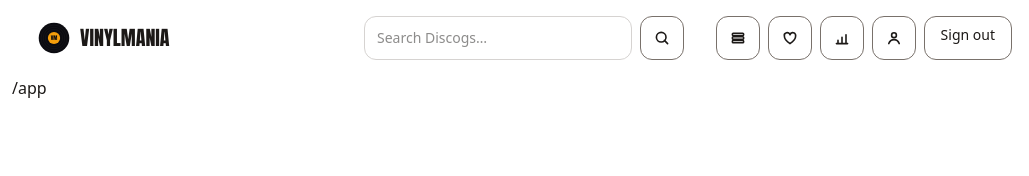
Scenario: Header search — suggestions (069 US2) › opens the master detail and collapses the search when a master suggestion is chosen (FR-012, SC-002)
Click the button named "search" at (662, 38), box [640, 16, 684, 60]
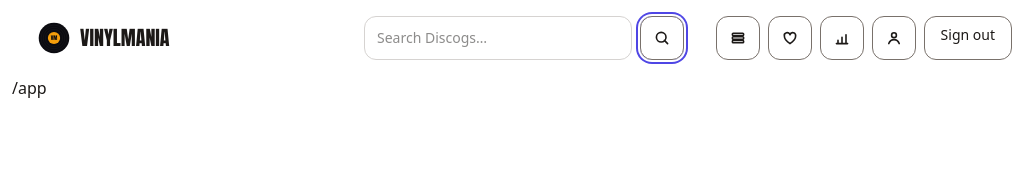
Type "miles" into the dropdown labelled "Search Discogs…" at (498, 38), box [364, 16, 632, 60]
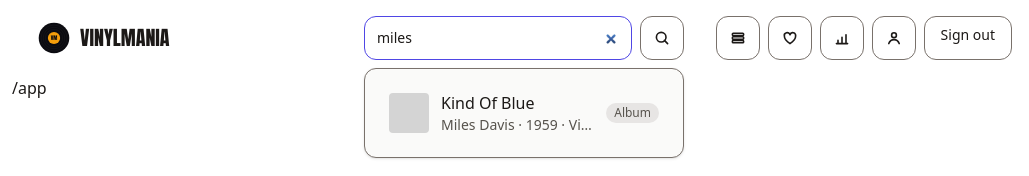
Click the text "Kind Of Blue" at (488, 103), box [441, 92, 534, 114]
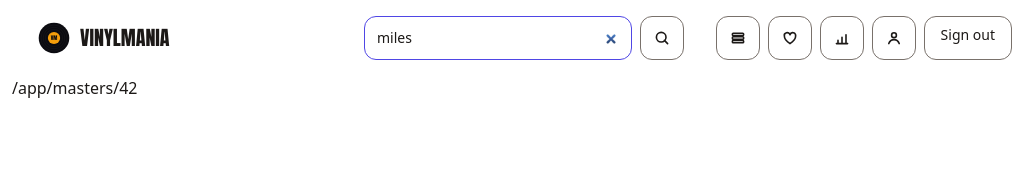
Now the text with test id "location" reads "/app/masters/42", box [12, 77, 138, 99]
